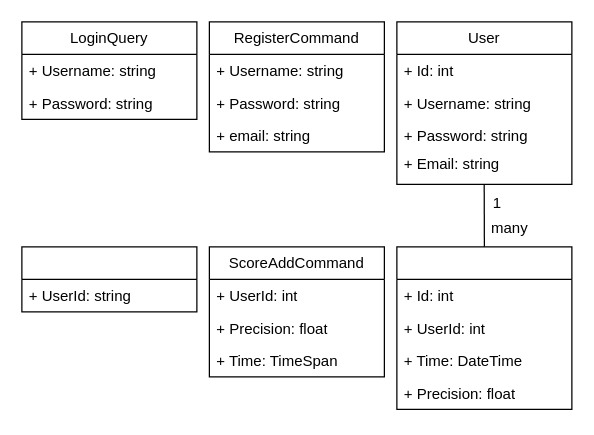
This 594x435 diagram has some shape labels left out. The box of each missing label's shape, as (x1, y1, x2, y2) in pixels:
Score: (396, 246, 572, 409)
UserScoresQuery: (21, 246, 197, 312)
